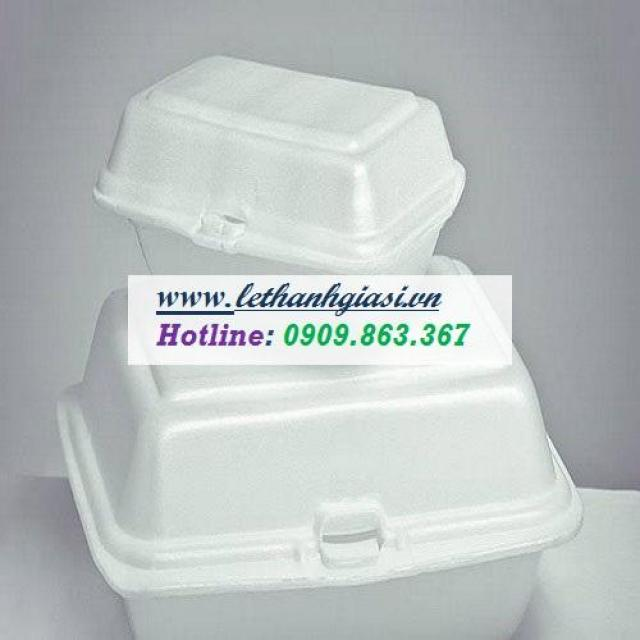styrofoam: (54, 52, 585, 638)
